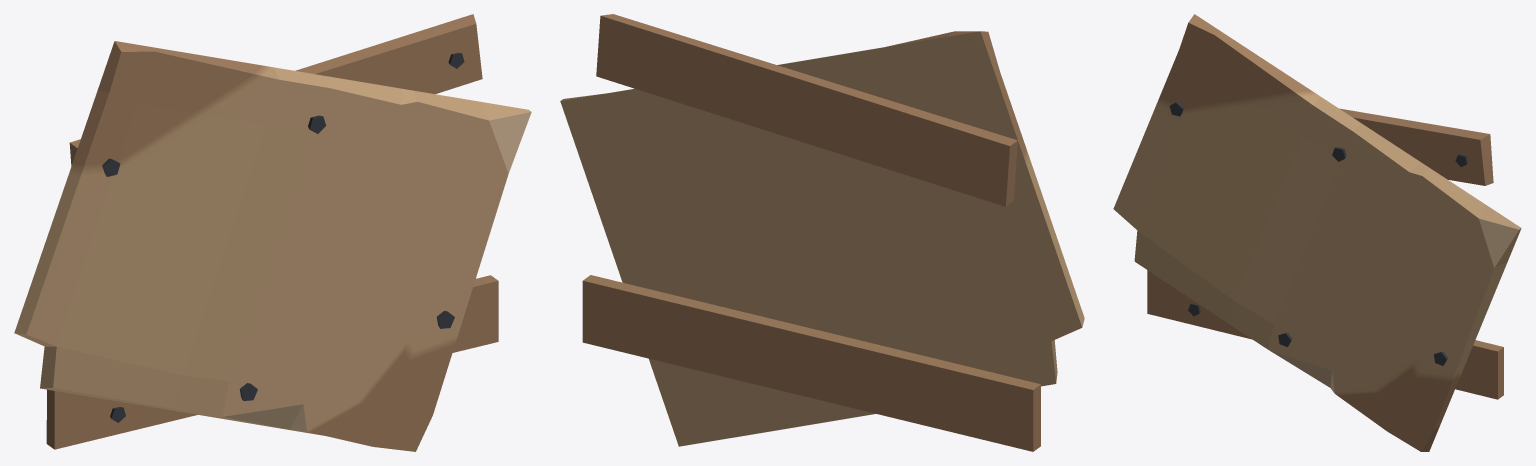
The model's file is SM_Window_Baricade_B.gltf.
3 renders of one model, left to right at view 1: azimuth 30°, elevation 25°; view 2: azimuth 150°, elevation 25°; view 3: azimuth 330°, elevation 25°, orthographic. The views are drawn at different scales.
Visible parts, largest first — view 1: SM_Window_Baricade_B; view 2: SM_Window_Baricade_B; view 3: SM_Window_Baricade_B.
Part boxes in pixels (x1=…): SM_Window_Baricade_B: x1=14, y1=14, x2=531, y2=451; SM_Window_Baricade_B: x1=560, y1=14, x2=1084, y2=451; SM_Window_Baricade_B: x1=1113, y1=14, x2=1521, y2=451.
Size of the model in its own units: 1.75 by 1.57 by 0.1085.
Materials: 1 (1 with a texture image).
